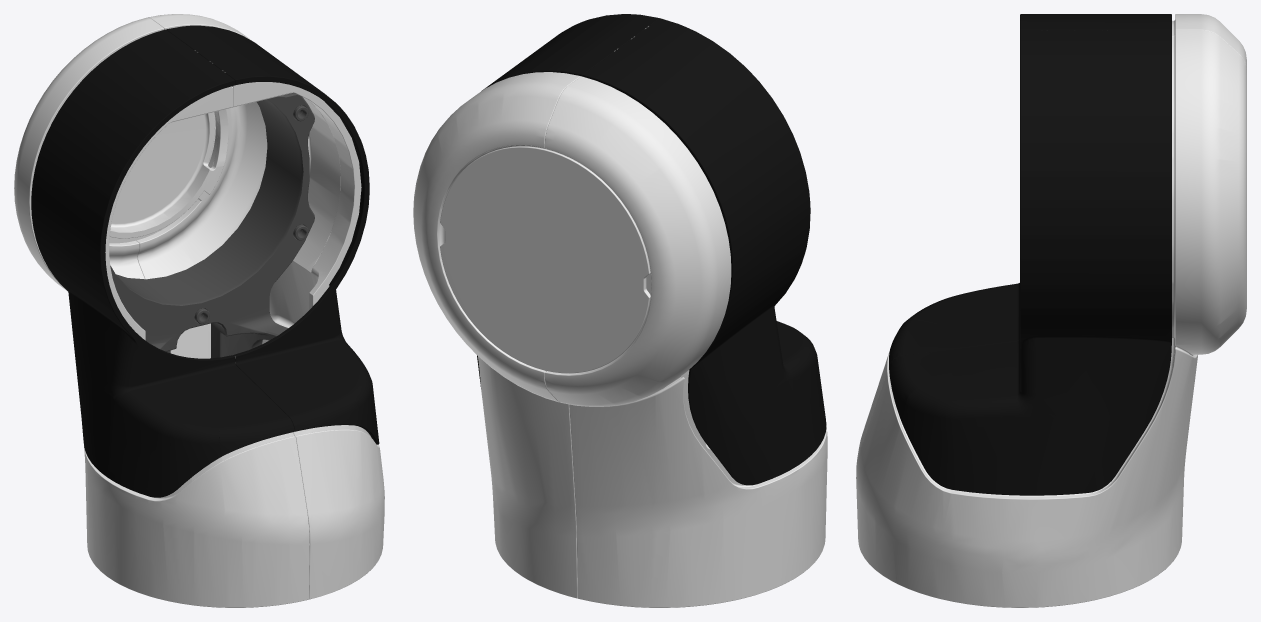
File: link_right_lower_arm.glb
3 views of the same model, side by side, from view 1: azimuth 30°, elevation 25°; view 2: azimuth 150°, elevation 25°; view 3: azimuth 270°, elevation 25° (orthographic). The views are drawn at different scales.
Parts seen in each view (by area): view 1: link_right_lower_arm; view 2: link_right_lower_arm; view 3: link_right_lower_arm.
Part boxes in pixels (left/top/right/bottom): link_right_lower_arm: left=14, top=14, right=384, bottom=607; link_right_lower_arm: left=413, top=14, right=827, bottom=607; link_right_lower_arm: left=856, top=14, right=1246, bottom=607.
Size of the model in its own units: 0.1 by 0.165 by 0.1146.
1 material, 1 textured.
